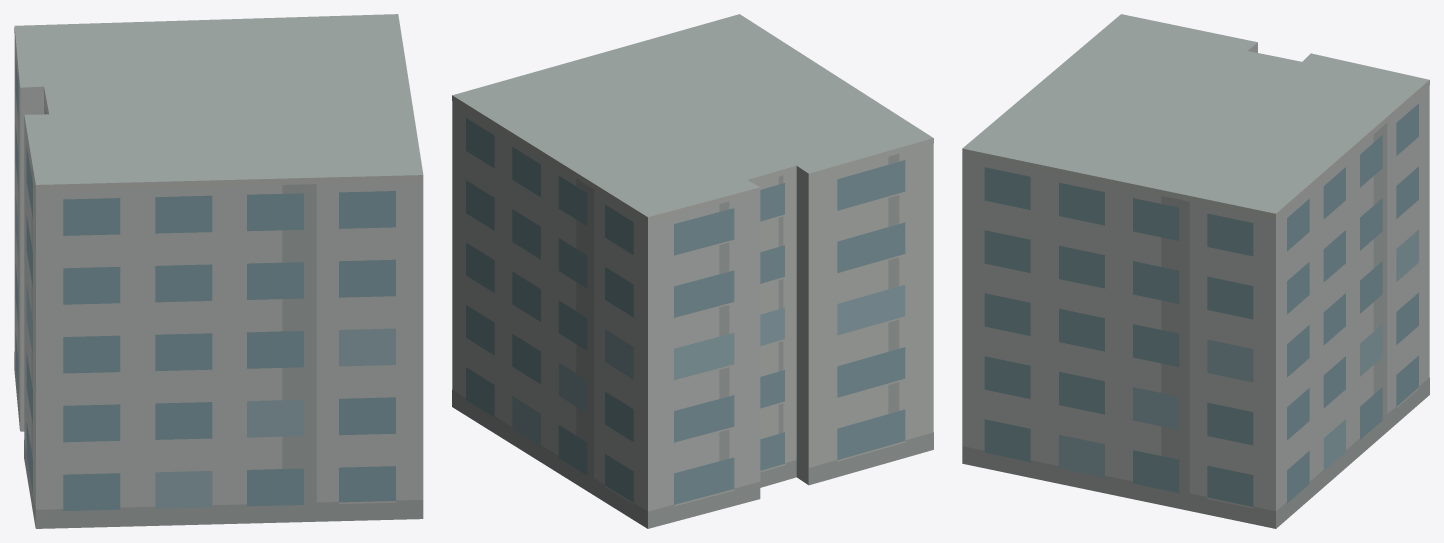
Rendered from survey-upis-32952989.glb.
3 renders of one model, left to right at view 1: azimuth 30°, elevation 25°; view 2: azimuth 150°, elevation 25°; view 3: azimuth 270°, elevation 25°, orthographic. The views are drawn at different scales.
Parts seen in each view (by area): view 1: survey-upis-32952989.tmp; view 2: survey-upis-32952989.tmp; view 3: survey-upis-32952989.tmp.
Part boxes in pixels (x1=…): survey-upis-32952989.tmp: x1=14, y1=14, x2=423, y2=528; survey-upis-32952989.tmp: x1=452, y1=14, x2=933, y2=528; survey-upis-32952989.tmp: x1=962, y1=14, x2=1429, y2=528.
Bounding box in the file's own units: 17.96 × 13.2 × 17.76.
